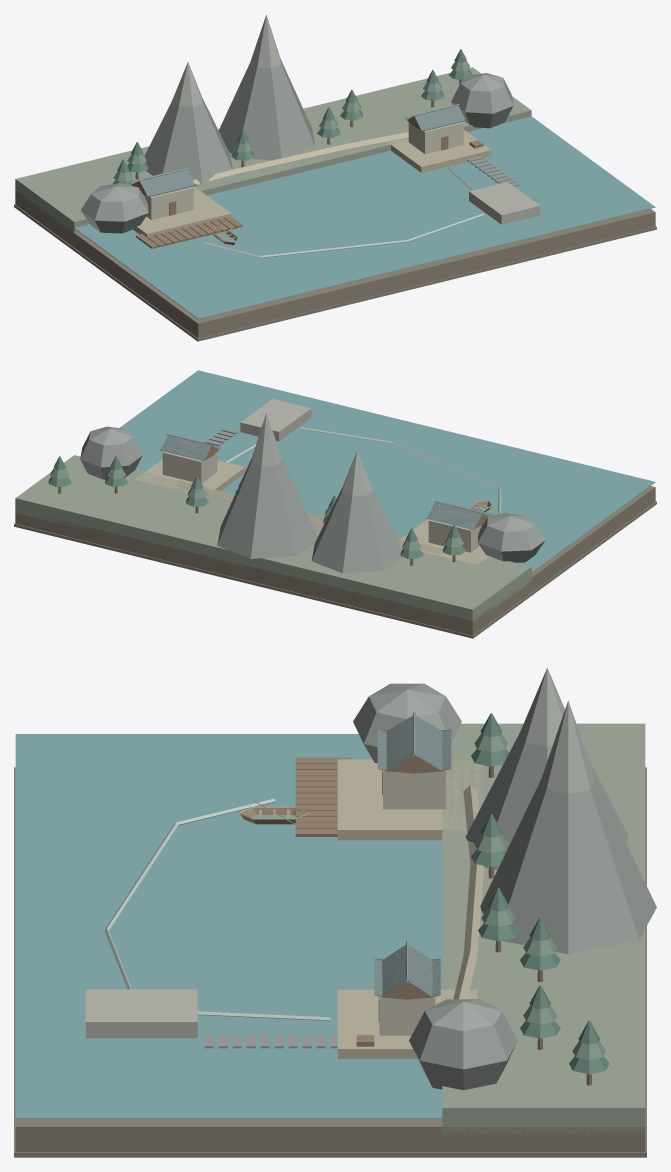
File: tide-coast.glb
3 renders of one model, top to bottom at view 1: azimuth 30°, elevation 25°; view 2: azimuth 150°, elevation 25°; view 3: azimuth 270°, elevation 25°, orthographic. The views are drawn at different scales.
Parts seen in each view (by area): view 1: water, ground, details, architecture, vegetation, routes, roofs; view 2: ground, water, details, vegetation, architecture, roofs, routes; view 3: water, ground, details, vegetation, architecture, roofs, routes.
Boxes of the visible parts, x1=… form: water: x1=15, y1=116, x2=655, y2=318; ground: x1=14, y1=67, x2=656, y2=341; details: x1=80, y1=15, x2=519, y2=244; architecture: x1=136, y1=122, x2=463, y2=248; vegetation: x1=112, y1=49, x2=471, y2=185; routes: x1=193, y1=132, x2=484, y2=257; roofs: x1=129, y1=104, x2=467, y2=196; ground: x1=14, y1=399, x2=656, y2=638; water: x1=15, y1=370, x2=655, y2=616; details: x1=80, y1=413, x2=545, y2=573; vegetation: x1=48, y1=456, x2=465, y2=565; architecture: x1=162, y1=451, x2=481, y2=552; roofs: x1=159, y1=433, x2=492, y2=529; routes: x1=177, y1=427, x2=500, y2=553; water: x1=15, y1=734, x2=644, y2=1118; ground: x1=14, y1=723, x2=646, y2=1157; details: x1=204, y1=668, x2=656, y2=1090; vegetation: x1=471, y1=713, x2=609, y2=1085; architecture: x1=295, y1=757, x2=445, y2=1035; roofs: x1=374, y1=712, x2=451, y2=999; routes: x1=104, y1=785, x2=484, y2=1020.
Size of the model in its own units: 130 by 41.7 by 91.92.
